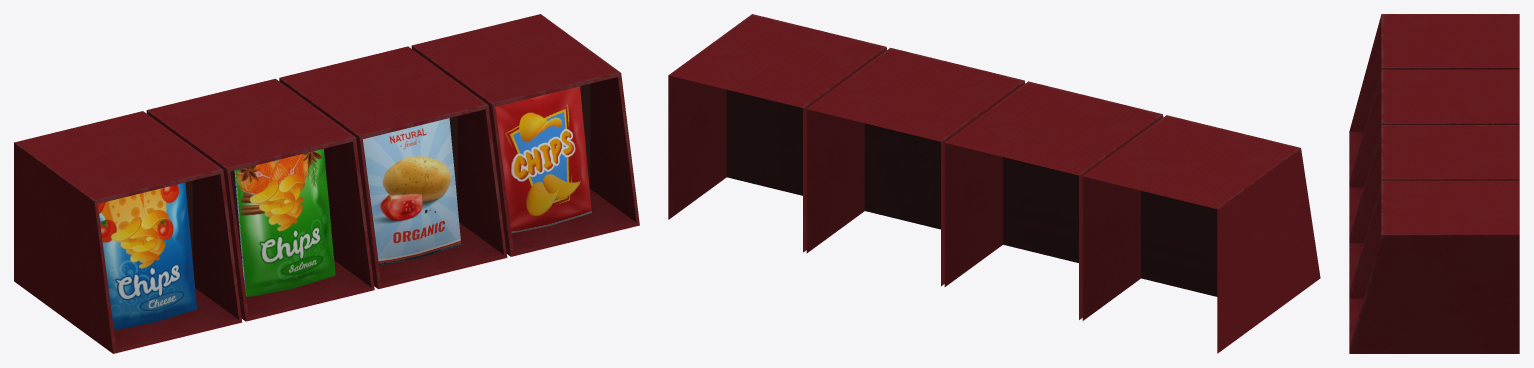
Rendered from Chipsbox2.fbx.
The picture shows the model from 3 angles, left to right: view 1: azimuth 30°, elevation 25°; view 2: azimuth 150°, elevation 25°; view 3: azimuth 270°, elevation 25°; orthographic projection. The views are drawn at different scales.
Parts seen in each view (by area): view 1: Chipsbox2; view 2: Chipsbox2; view 3: Chipsbox2.
Boxes of the visible parts, bbox=[...] form: Chipsbox2: bbox=[14, 14, 639, 353]; Chipsbox2: bbox=[668, 14, 1320, 353]; Chipsbox2: bbox=[1349, 14, 1519, 353].
Bounding box in the file's own units: 116 × 29.33 × 37.97.
